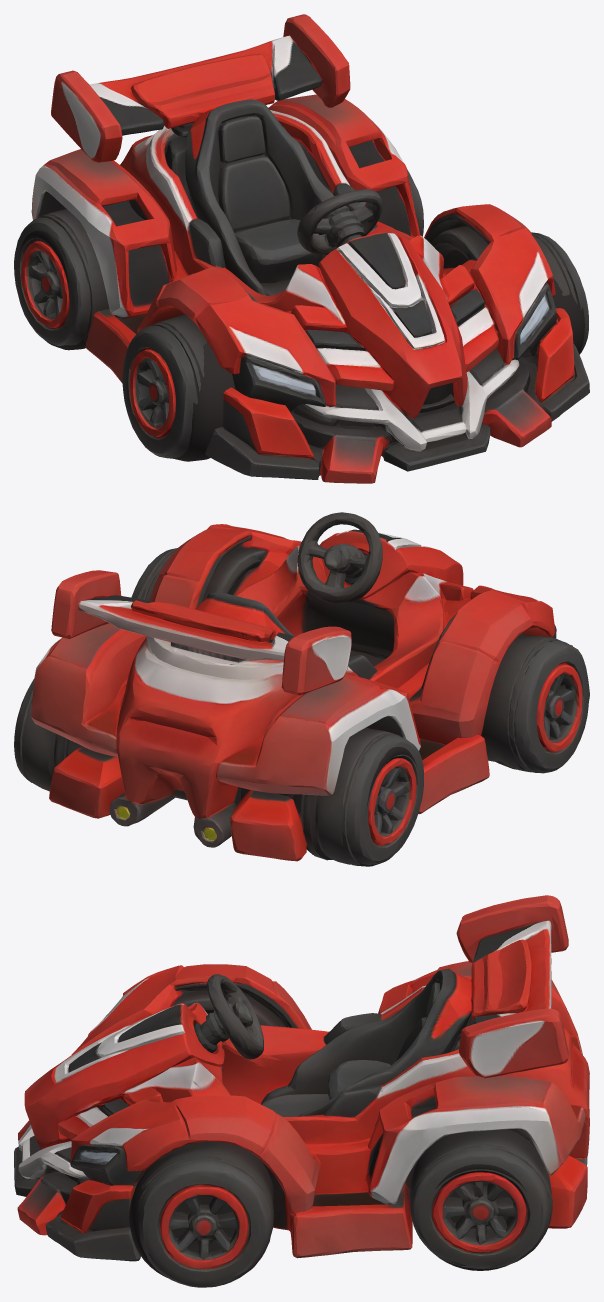
3 renders of one model, top to bottom at view 1: azimuth 30°, elevation 25°; view 2: azimuth 150°, elevation 25°; view 3: azimuth 270°, elevation 25°, orthographic.
Visible parts, largest first — view 1: comet_body, wheel_front_left, wheel_rear_left, wheel_front_right; view 2: comet_body, wheel_rear_left, wheel_front_left, wheel_rear_right; view 3: comet_body, wheel_rear_right, wheel_front_right.
Boxes of the visible parts, x1=… form: comet_body: x1=31, y1=14, x2=589, y2=483; wheel_front_left: x1=122, y1=322, x2=241, y2=461; wheel_rear_left: x1=14, y1=209, x2=109, y2=350; wheel_front_right: x1=535, y1=233, x2=588, y2=354; comet_body: x1=31, y1=512, x2=589, y2=861; wheel_rear_left: x1=295, y1=727, x2=423, y2=866; wheel_front_left: x1=485, y1=633, x2=589, y2=773; wheel_rear_right: x1=14, y1=679, x2=74, y2=791; comet_body: x1=14, y1=895, x2=589, y2=1261; wheel_rear_right: x1=410, y1=1129, x2=552, y2=1270; wheel_front_right: x1=116, y1=1142, x2=272, y2=1287.
Bounding box in the file's own units: 3.02 × 1.66 × 3.6.
Materials: 1 (1 with a texture image).
